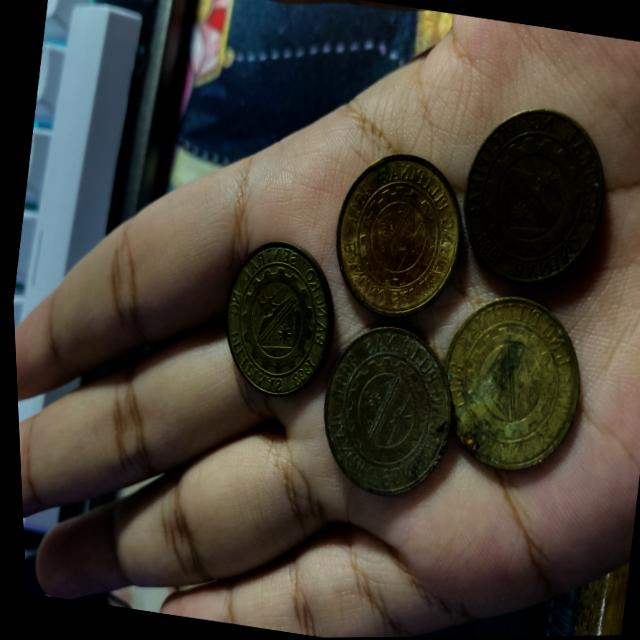25Cent_Old_Back: (440, 99, 619, 293), (428, 291, 594, 476), (309, 325, 447, 503), (206, 234, 338, 411), (327, 151, 462, 319)
